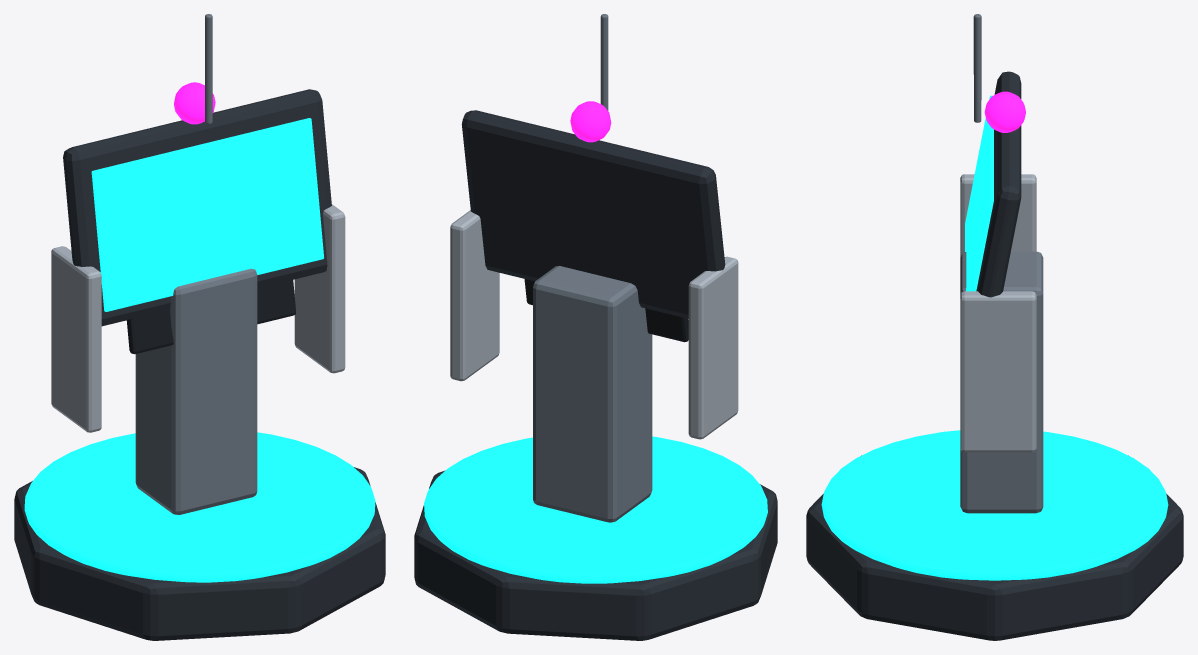
The model's file is platform_kiosk.glb.
3 renders of one model, left to right at view 1: azimuth 30°, elevation 25°; view 2: azimuth 150°, elevation 25°; view 3: azimuth 270°, elevation 25°, orthographic. The views are drawn at different scales.
Visible parts, largest first — view 1: Kiosk_PlinthRing, Kiosk_HoloPanel, Kiosk_Column, Kiosk_Plinth, Kiosk_ScreenFrame, Kiosk_Rail_-1, Kiosk_Rail_1, Kiosk_PlateRail, Kiosk_Beacon, Kiosk_Antenna; view 2: Kiosk_ScreenFrame, Kiosk_PlinthRing, Kiosk_Column, Kiosk_Plinth, Kiosk_Rail_-1, Kiosk_Rail_1, Kiosk_Beacon, Kiosk_PlateRail, Kiosk_Antenna; view 3: Kiosk_PlinthRing, Kiosk_Plinth, Kiosk_Rail_1, Kiosk_Column, Kiosk_ScreenFrame, Kiosk_HoloPanel, Kiosk_Rail_-1, Kiosk_Beacon, Kiosk_Antenna.
Part boxes in pixels (bbox=[...]): Kiosk_PlinthRing: bbox=[24, 432, 375, 582]; Kiosk_HoloPanel: bbox=[91, 118, 324, 311]; Kiosk_Column: bbox=[135, 268, 257, 514]; Kiosk_Plinth: bbox=[14, 467, 385, 640]; Kiosk_ScreenFrame: bbox=[63, 89, 331, 326]; Kiosk_Rail_-1: bbox=[51, 246, 101, 432]; Kiosk_Rail_1: bbox=[294, 204, 345, 373]; Kiosk_PlateRail: bbox=[126, 279, 295, 354]; Kiosk_Beacon: bbox=[174, 82, 215, 124]; Kiosk_Antenna: bbox=[205, 14, 212, 124]; Kiosk_ScreenFrame: bbox=[461, 110, 725, 318]; Kiosk_PlinthRing: bbox=[424, 436, 767, 583]; Kiosk_Column: bbox=[533, 266, 652, 522]; Kiosk_Plinth: bbox=[414, 470, 777, 640]; Kiosk_Rail_-1: bbox=[688, 256, 738, 439]; Kiosk_Rail_1: bbox=[450, 210, 499, 381]; Kiosk_Beacon: bbox=[570, 101, 611, 142]; Kiosk_PlateRail: bbox=[524, 279, 688, 342]; Kiosk_Antenna: bbox=[600, 14, 608, 110]; Kiosk_PlinthRing: bbox=[821, 430, 1168, 580]; Kiosk_Plinth: bbox=[806, 455, 1183, 640]; Kiosk_Rail_1: bbox=[960, 291, 1036, 452]; Kiosk_Column: bbox=[960, 251, 1043, 513]; Kiosk_ScreenFrame: bbox=[976, 71, 1021, 297]; Kiosk_HoloPanel: bbox=[965, 95, 993, 291]; Kiosk_Rail_-1: bbox=[960, 174, 1036, 257]; Kiosk_Beacon: bbox=[984, 91, 1025, 132]; Kiosk_Antenna: bbox=[973, 14, 981, 122].
Bounding box in the file's own units: 1.09 × 1.75 × 1.09.
